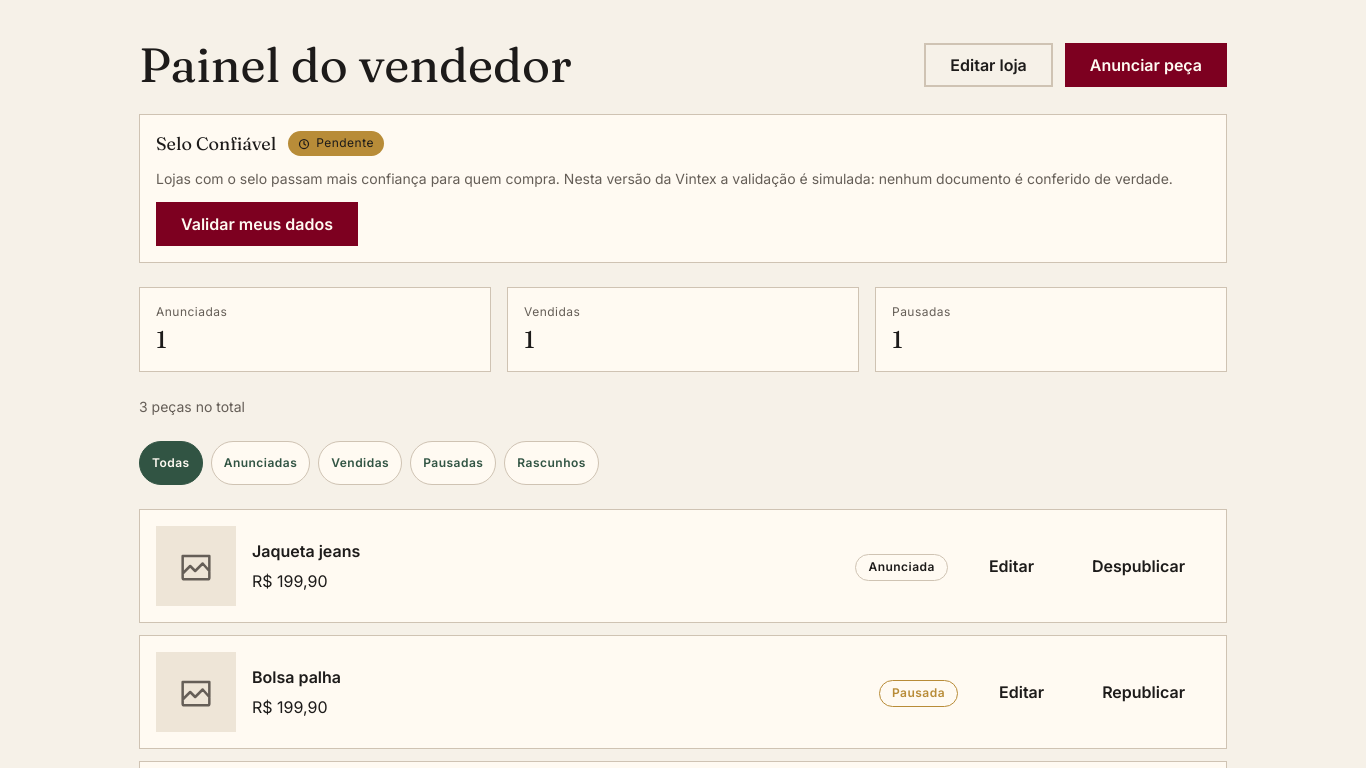
Test: <SellerAdmin /> › ações por peça (FE-US019-2) › Republicar usa publish e volta a peça para anunciada
Expected: the button "Bolsa palha" is shown, [252,664,341,690]
Click the button "Republicar" at (1144, 692), box [1077,670,1210,714]
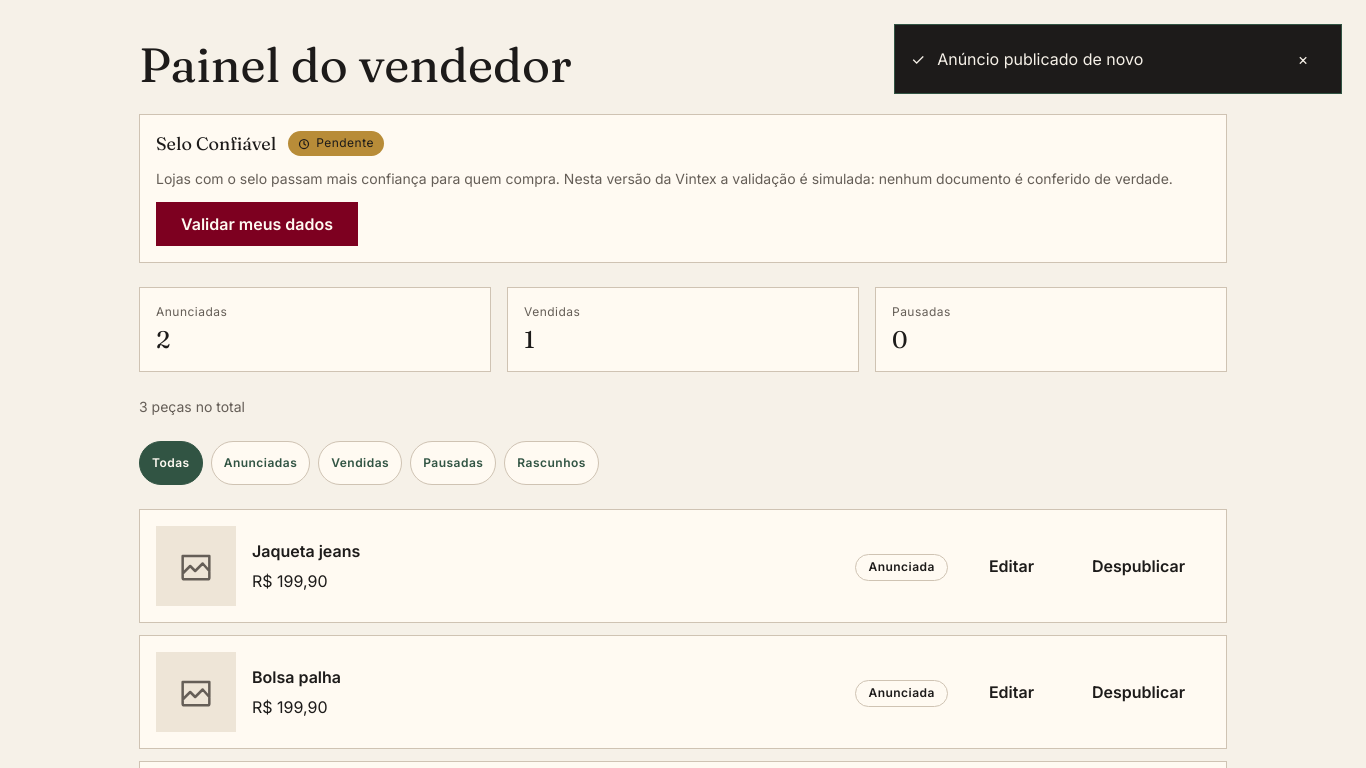
Now the text "Anúncio publicado de novo" is shown, box [937,49,1143,69]
Now the 2nd text "Anunciada" is shown, box [855,680,948,707]
